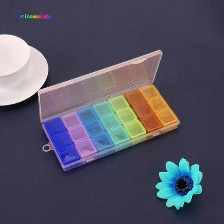plastic_box: (29, 42, 186, 178)
